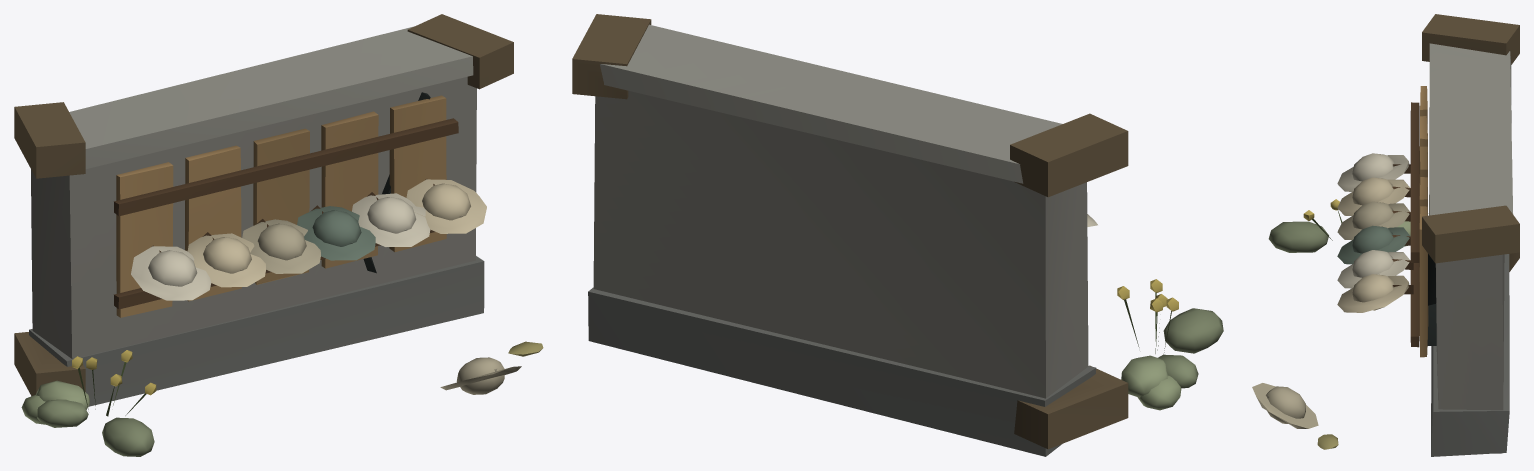
File: hardhat_rack_a_lod1.glb
The picture shows the model from 3 angles, left to right: view 1: azimuth 30°, elevation 25°; view 2: azimuth 150°, elevation 25°; view 3: azimuth 270°, elevation 25°; orthographic projection. The views are drawn at different scales.
Parts seen in each view (by area): view 1: Surface.001; view 2: Surface.001; view 3: Surface.001.
Boxes of the visible parts, x1,y1,x2,y2 form: Surface.001: (14,14,543,456); Surface.001: (572,14,1223,456); Surface.001: (1252,14,1519,456).
Size of the model in its own units: 5 by 2.61 by 2.53.
